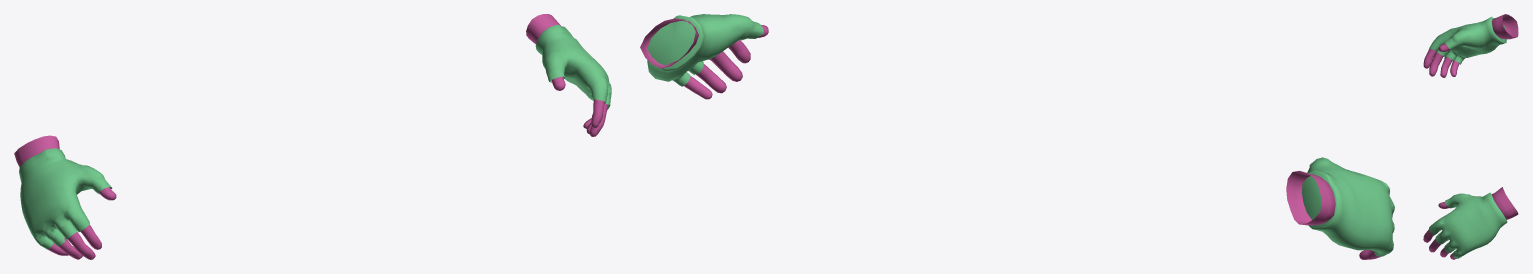
The model's file is gloves1.obj.
3 views of the same model, side by side, from view 1: azimuth 30°, elevation 25°; view 2: azimuth 150°, elevation 25°; view 3: azimuth 270°, elevation 25° (orthographic). The views are drawn at different scales.
Parts seen in each view (by area): view 1: slav_gloves_1; view 2: slav_gloves_1; view 3: slav_gloves_1.
Boxes of the visible parts, x1,y1,x2,y2 form: slav_gloves_1: (14, 14, 611, 259); slav_gloves_1: (640, 14, 1394, 259); slav_gloves_1: (1423, 14, 1518, 259).
Bounding box in the file's own units: 41.34 × 6.26 × 8.19.
